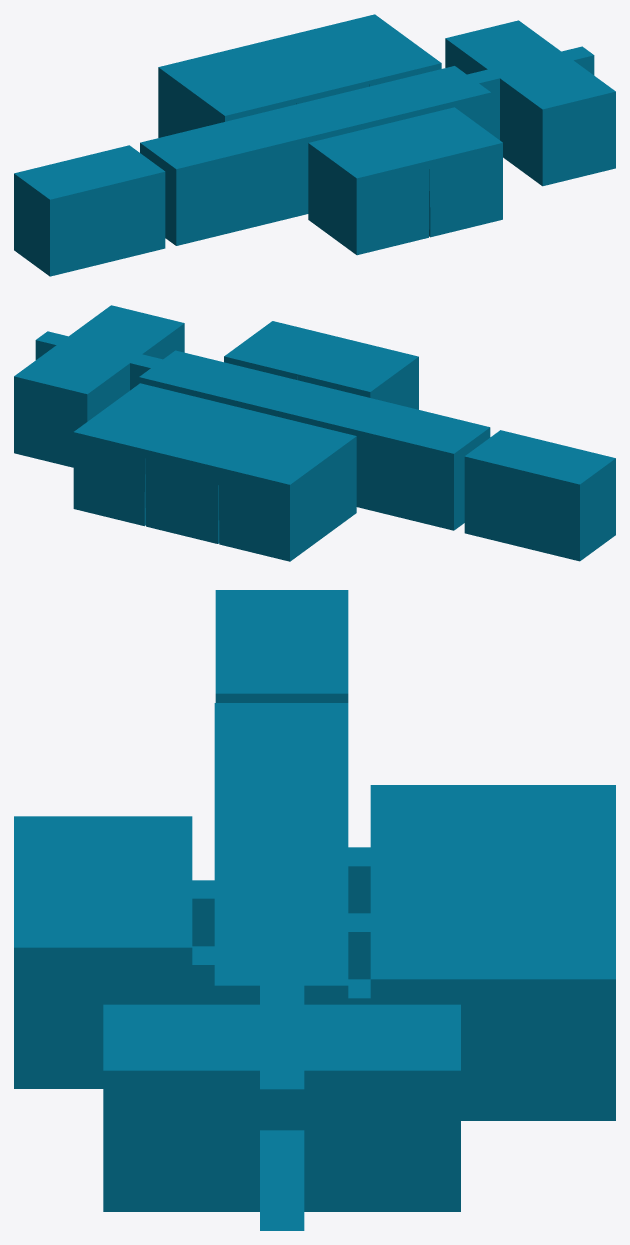
File: roomTemp.fbx
3 renders of one model, top to bottom at view 1: azimuth 30°, elevation 25°; view 2: azimuth 150°, elevation 25°; view 3: azimuth 270°, elevation 25°, orthographic. The views are drawn at different scales.
Visible parts, largest first — view 1: pPlane1; view 2: pPlane1; view 3: pPlane1.
Boxes of the visible parts, box(x1,y1,x2,y2) form: pPlane1: box(14, 14, 615, 276); pPlane1: box(14, 305, 615, 561); pPlane1: box(14, 590, 615, 1230).
Bounding box in the file's own units: 530 × 70.24 × 270.
